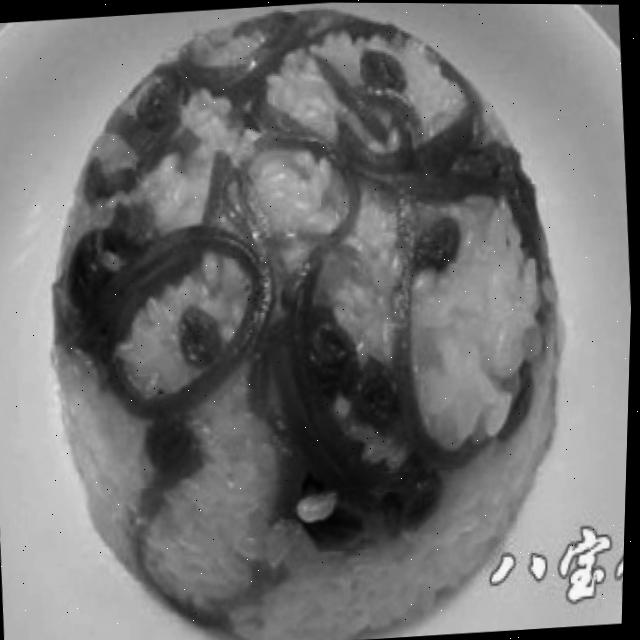米饭主食: (0, 0, 640, 630)
